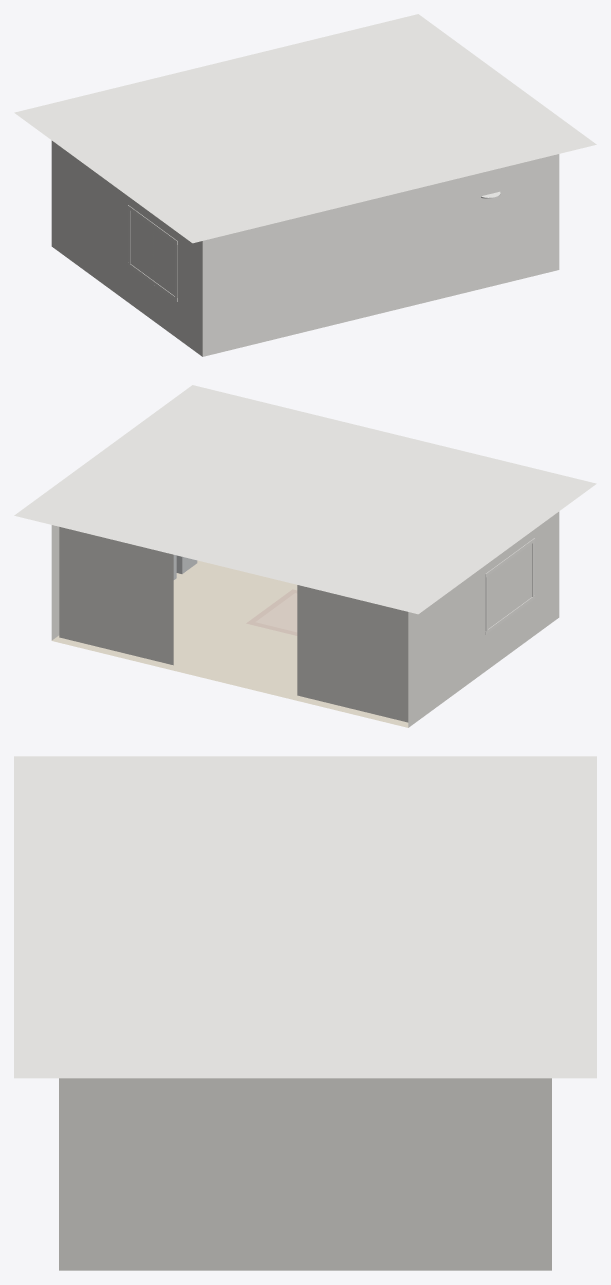
The picture shows the model from 3 angles, top to bottom: view 1: azimuth 30°, elevation 25°; view 2: azimuth 150°, elevation 25°; view 3: azimuth 270°, elevation 25°; orthographic projection. The views are drawn at different scales.
Size of the model in its own units: 17 by 5.2 by 13.
